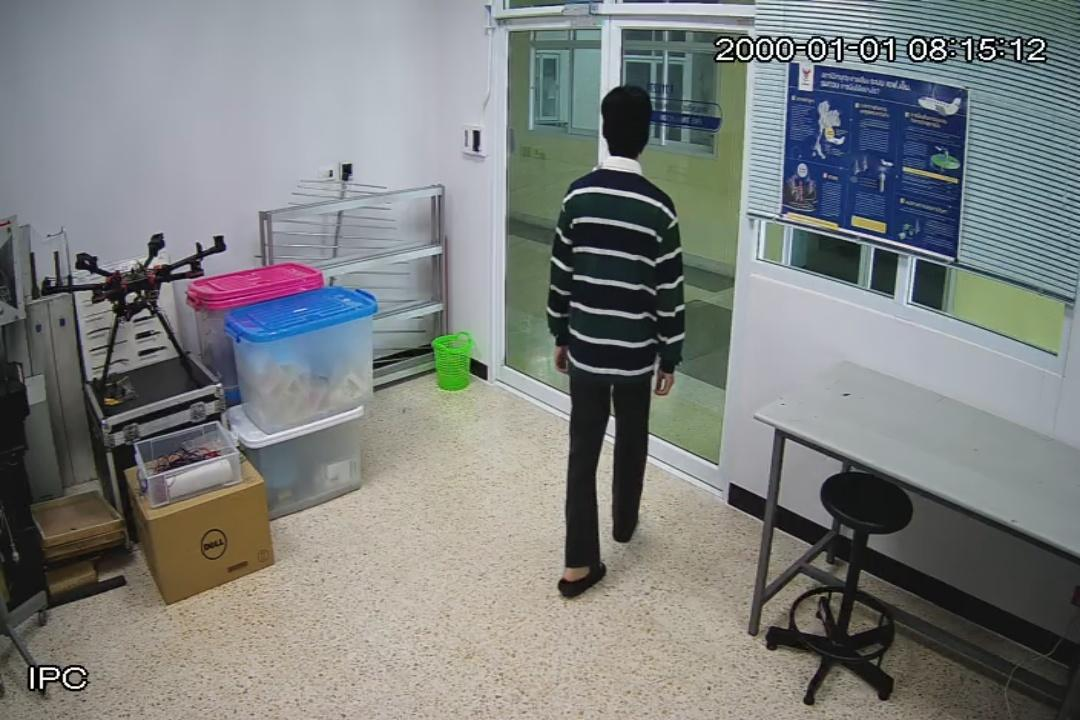normal: (540, 79, 693, 603)
